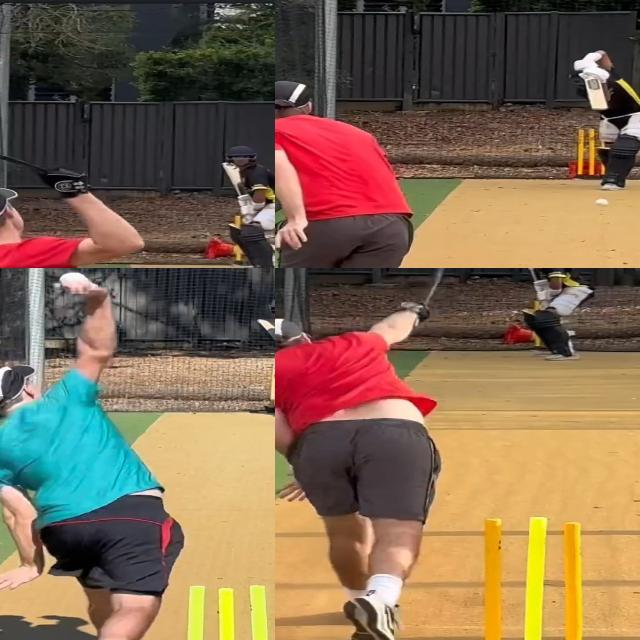Cricket ball: (57, 270, 91, 291), (594, 198, 612, 208)
Stumps: (467, 514, 601, 640), (170, 581, 275, 640)
